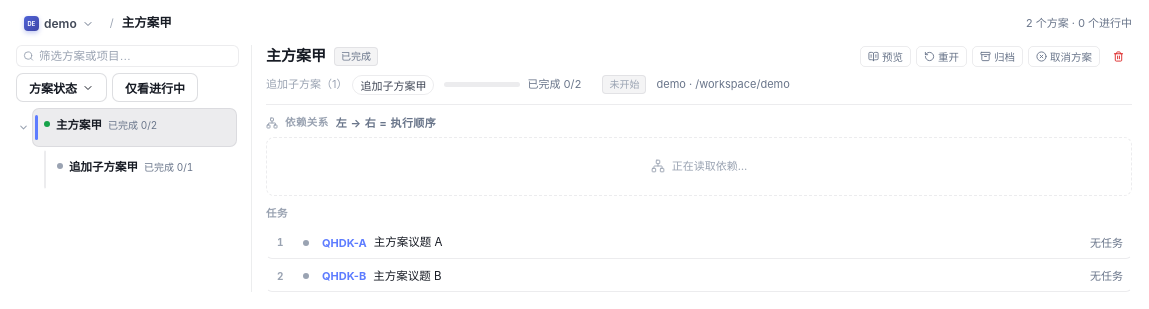
Test: PlanBoard — 追加子方案：缩进树与子树筛选 › 点上「追加自 ↗ 主方案」跳到父方案详情
The image size is (1149, 309).
Click the button "追加子方案甲 已完成 0/1": {"x": 140, "y": 170} [44, 150, 237, 189]
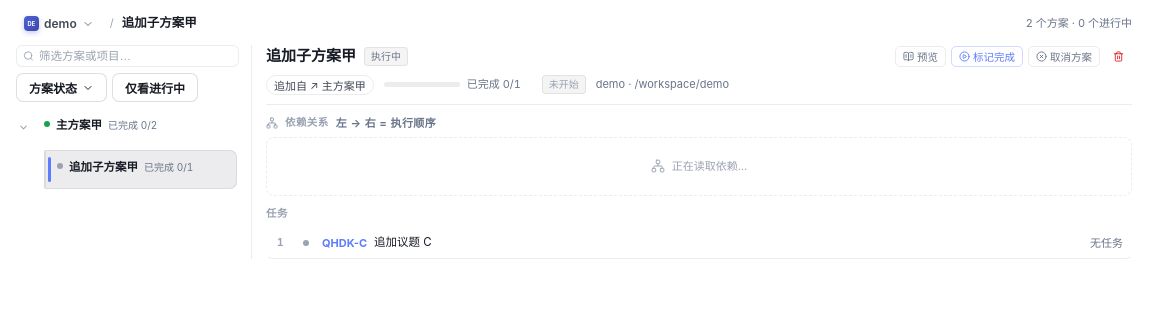
Click the button "追加自 ↗ 主方案甲": {"x": 320, "y": 84} [266, 74, 374, 94]
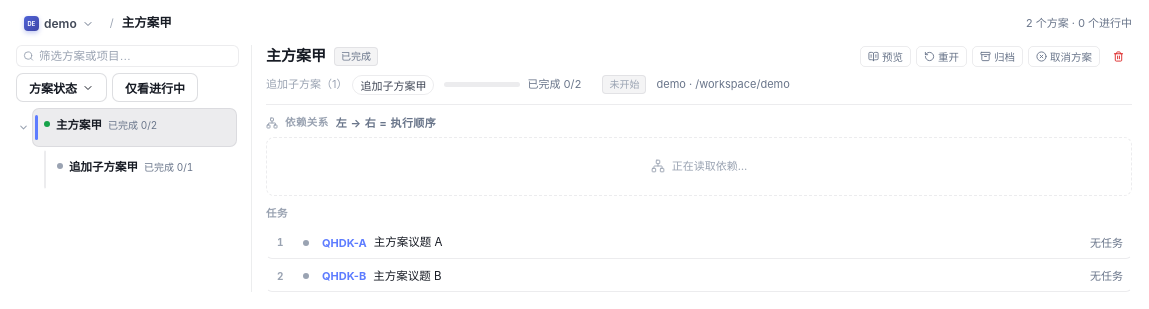
Now the button "追加自" is gone
Now the text "追加子方案（1）" is shown, box [266, 76, 348, 93]
